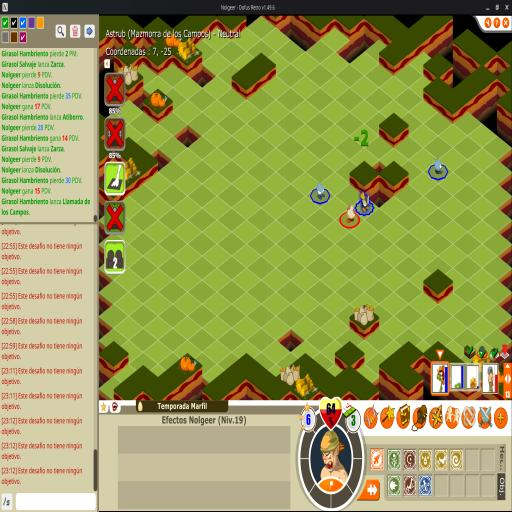Enemigos: (358, 190, 372, 213), (316, 181, 326, 200), (434, 157, 444, 175)
Personaje: (346, 204, 356, 224)
